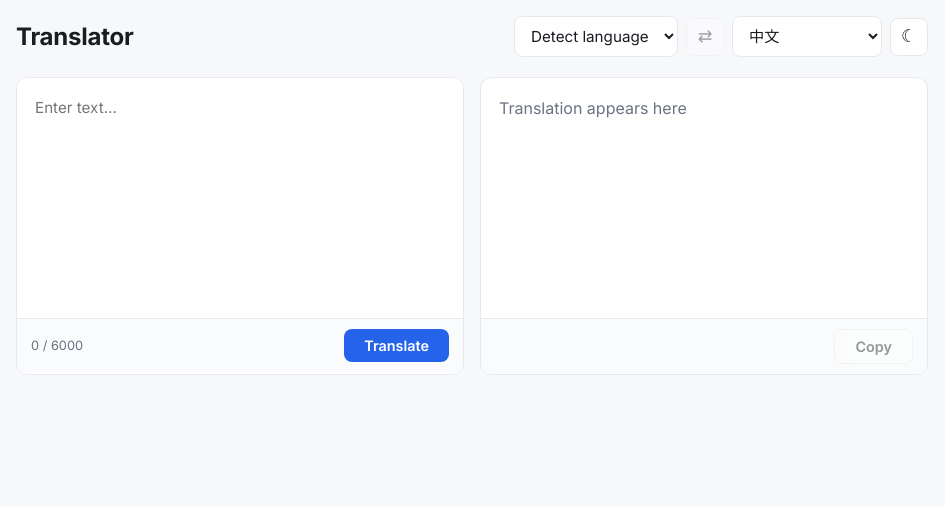
it: Translator › stores the translation in localStorage recent history
Type "Hello" into the text box with placeholder "Enter text…". click: (240, 198)
box: [17,78,463,318]
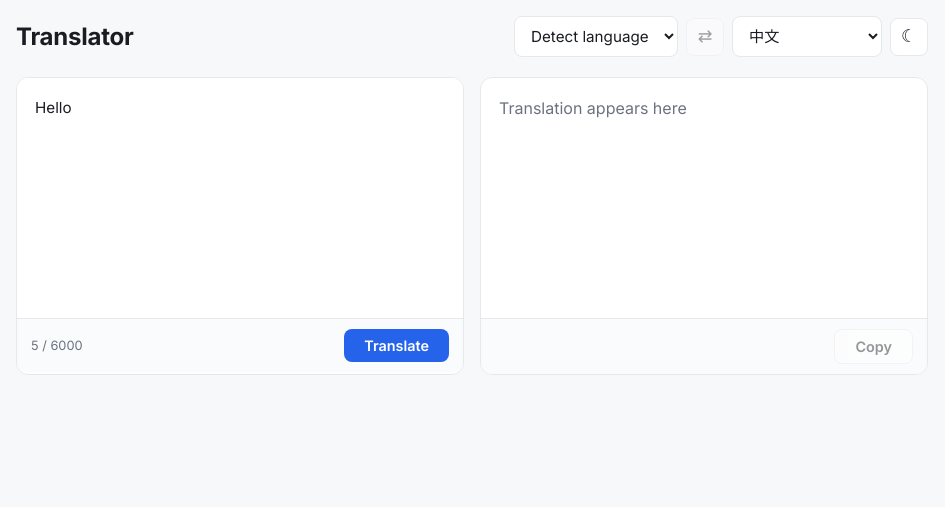
Click the button "Translate". click: (397, 346)
box: [344,329,449,362]
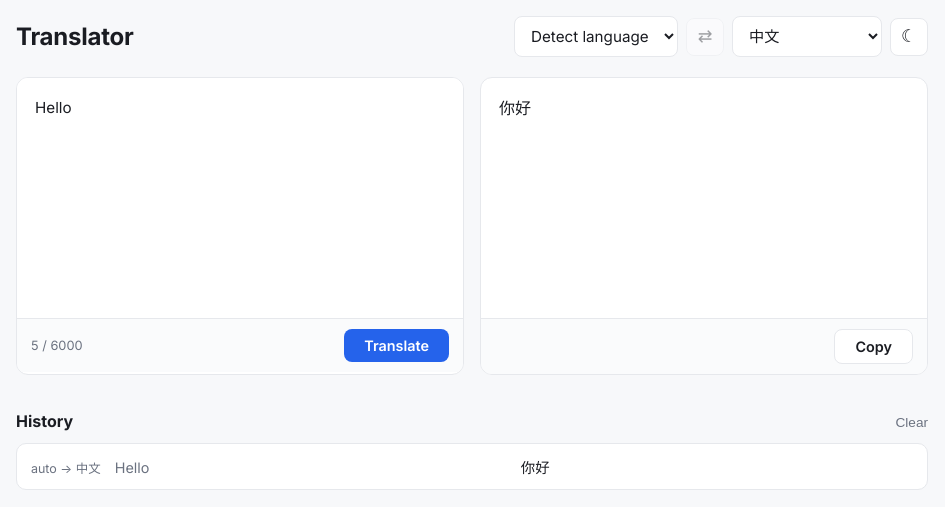
Now the text "你好" in the row of "auto" is shown, box [521,459,550,476]
